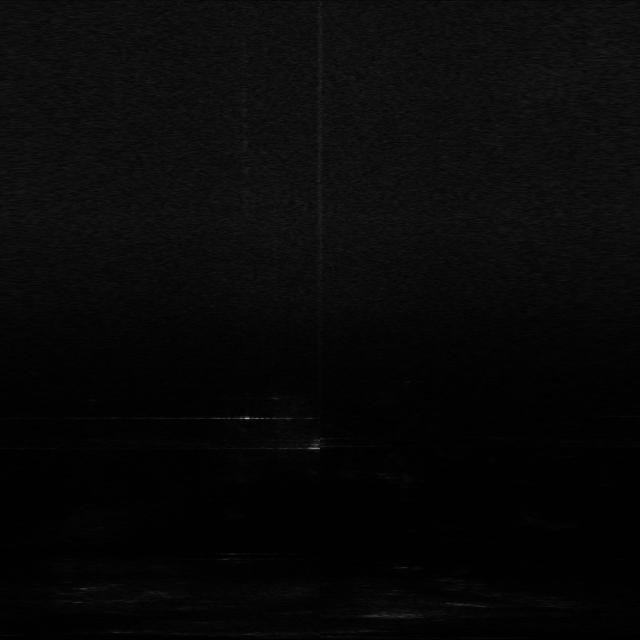rov: (304, 435, 328, 452)
